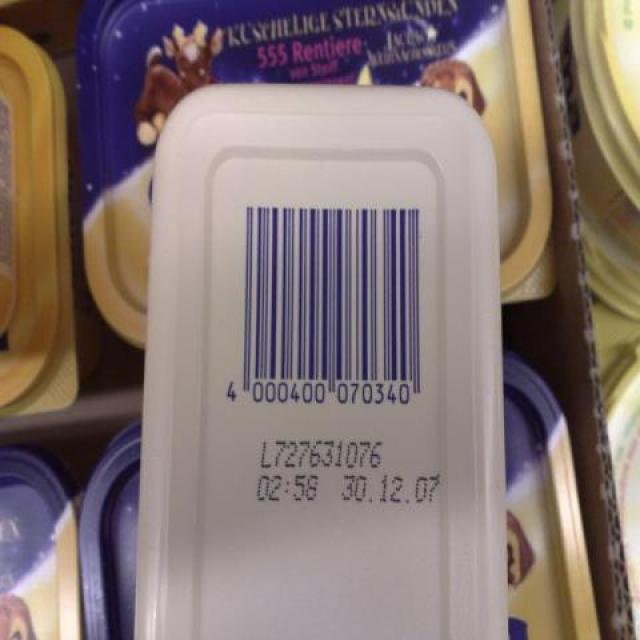Barcode: (214, 182, 441, 426)
